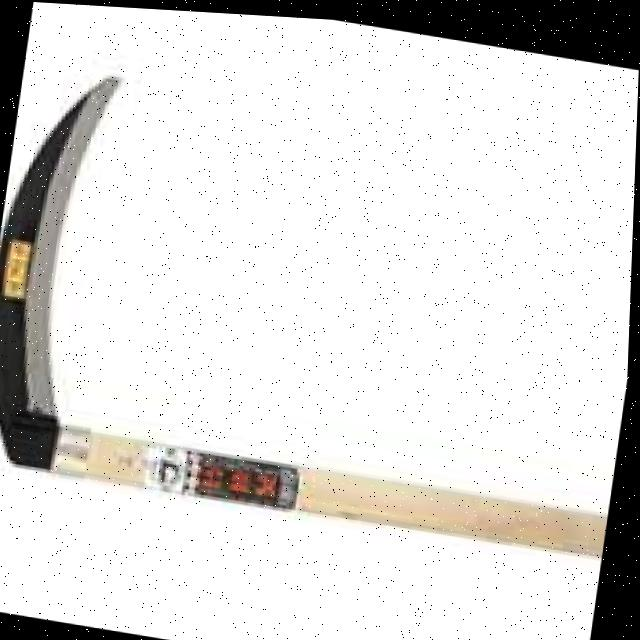sickle: (0, 56, 638, 573)
